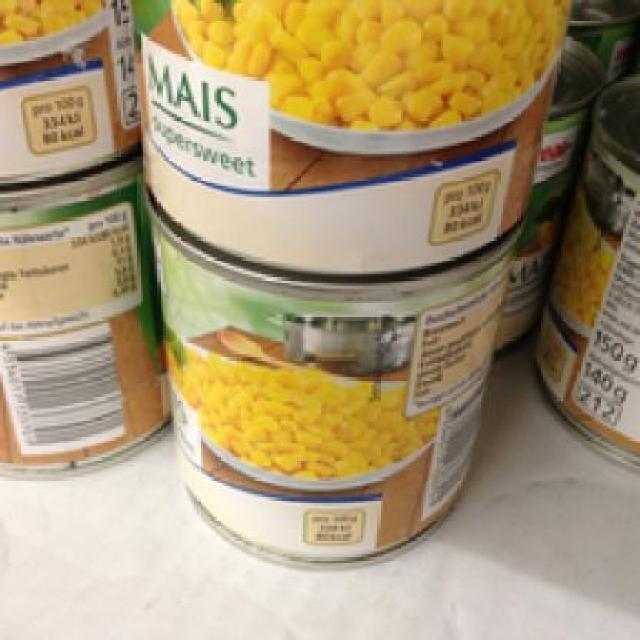Corn: (140, 200, 514, 563), (131, 0, 564, 277)
